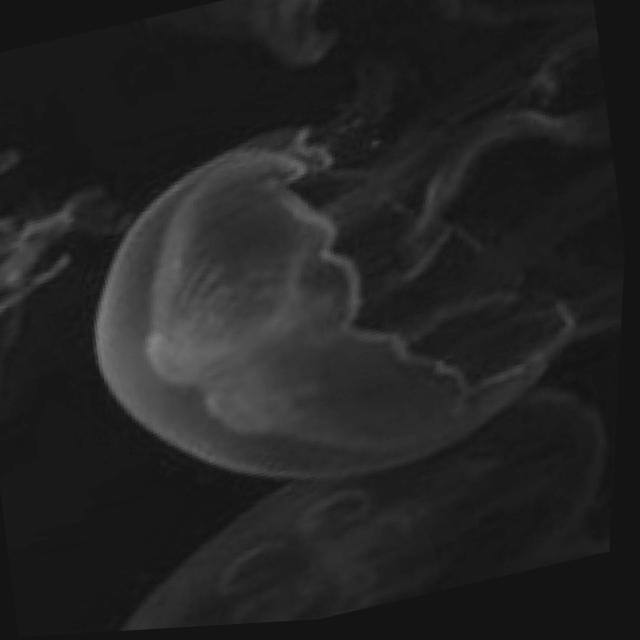Moon-jellyfish: (35, 20, 616, 572)
